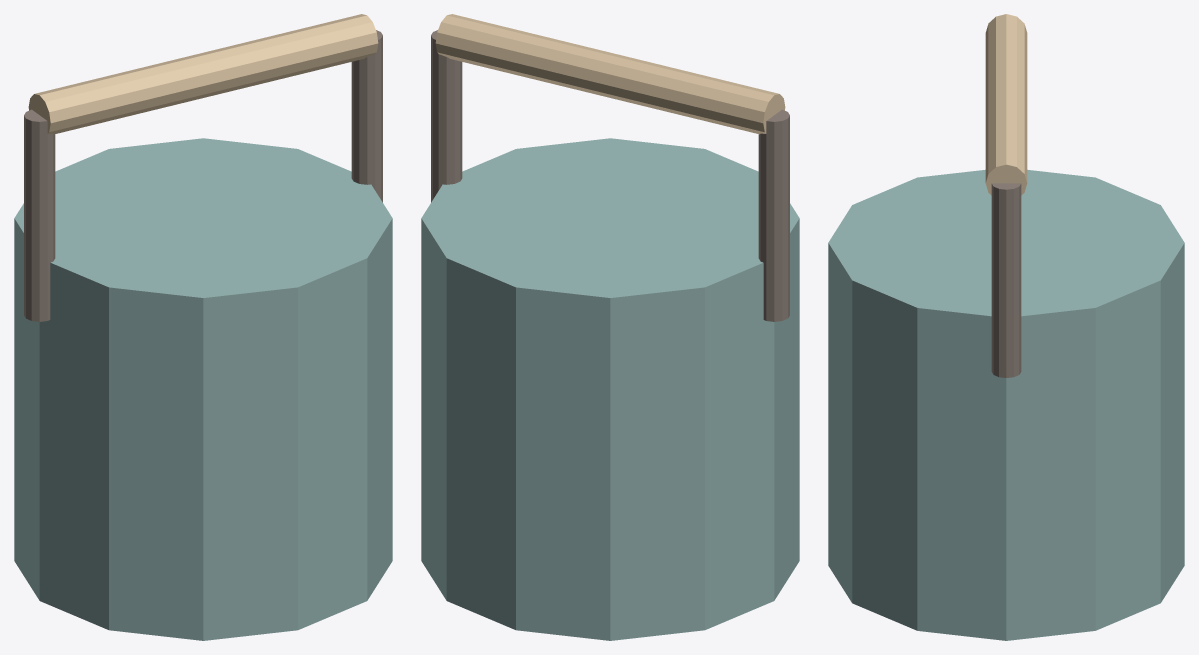
File: bucket.glb
The picture shows the model from 3 angles, left to right: view 1: azimuth 30°, elevation 25°; view 2: azimuth 150°, elevation 25°; view 3: azimuth 270°, elevation 25°; orthographic projection. The views are drawn at different scales.
Parts seen in each view (by area): view 1: Bucket, Grip, Handle side, Handle side.001; view 2: Bucket, Grip, Handle side, Handle side.001; view 3: Bucket, Grip, Handle side.001.
Part boxes in pixels (x1,y1,x2,y2): Bucket: [14, 138, 392, 640]; Grip: [28, 14, 378, 134]; Handle side: [24, 109, 55, 321]; Handle side.001: [351, 30, 382, 202]; Bucket: [421, 138, 799, 640]; Grip: [435, 14, 785, 134]; Handle side: [758, 109, 789, 321]; Handle side.001: [431, 30, 462, 202]; Bucket: [828, 169, 1184, 640]; Grip: [985, 14, 1027, 195]; Handle side.001: [991, 183, 1021, 377].
Bounding box in the file's own units: 0.65 × 0.885 × 0.6.
